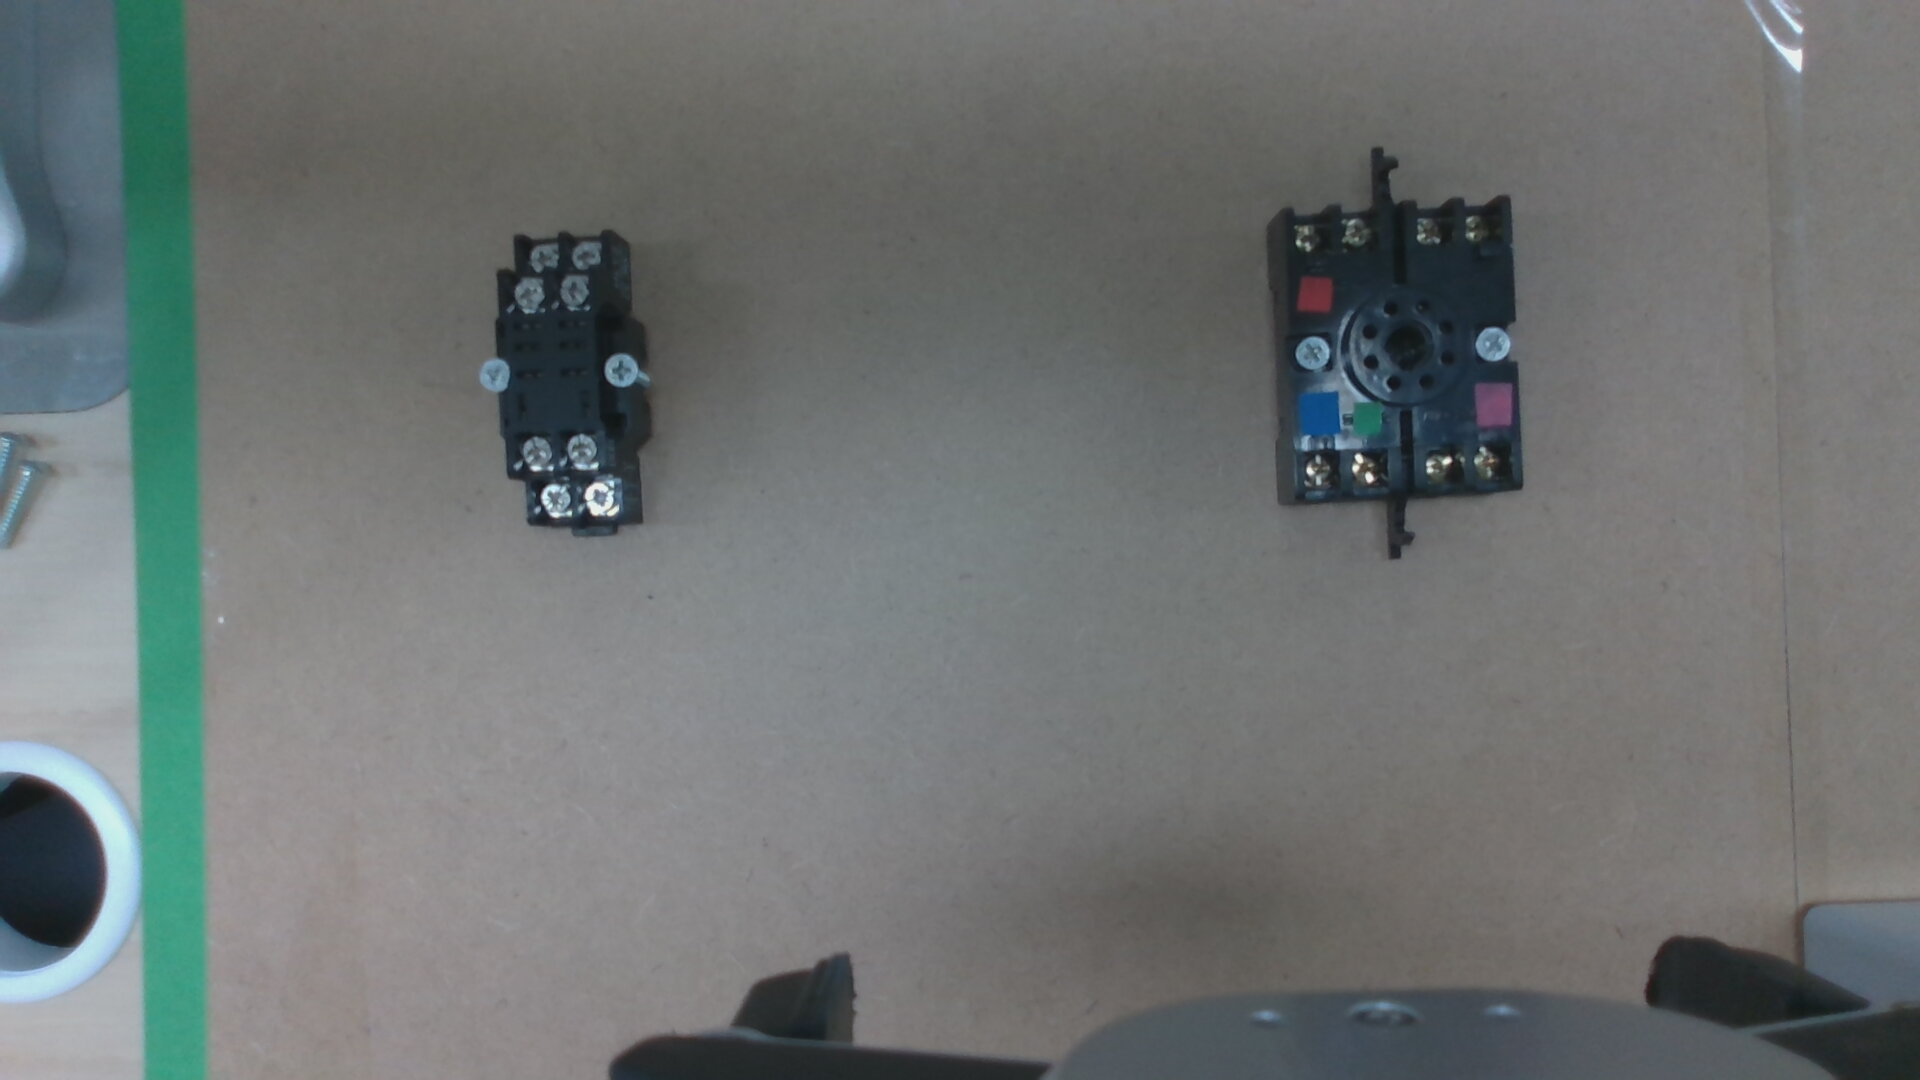relay 3: (570, 240, 600, 265)
relay 4: (525, 247, 556, 272)
relay 5: (582, 485, 615, 513)
relay 6: (537, 487, 571, 518)
relay 7: (564, 438, 596, 468)
relay 8: (518, 439, 553, 468)
